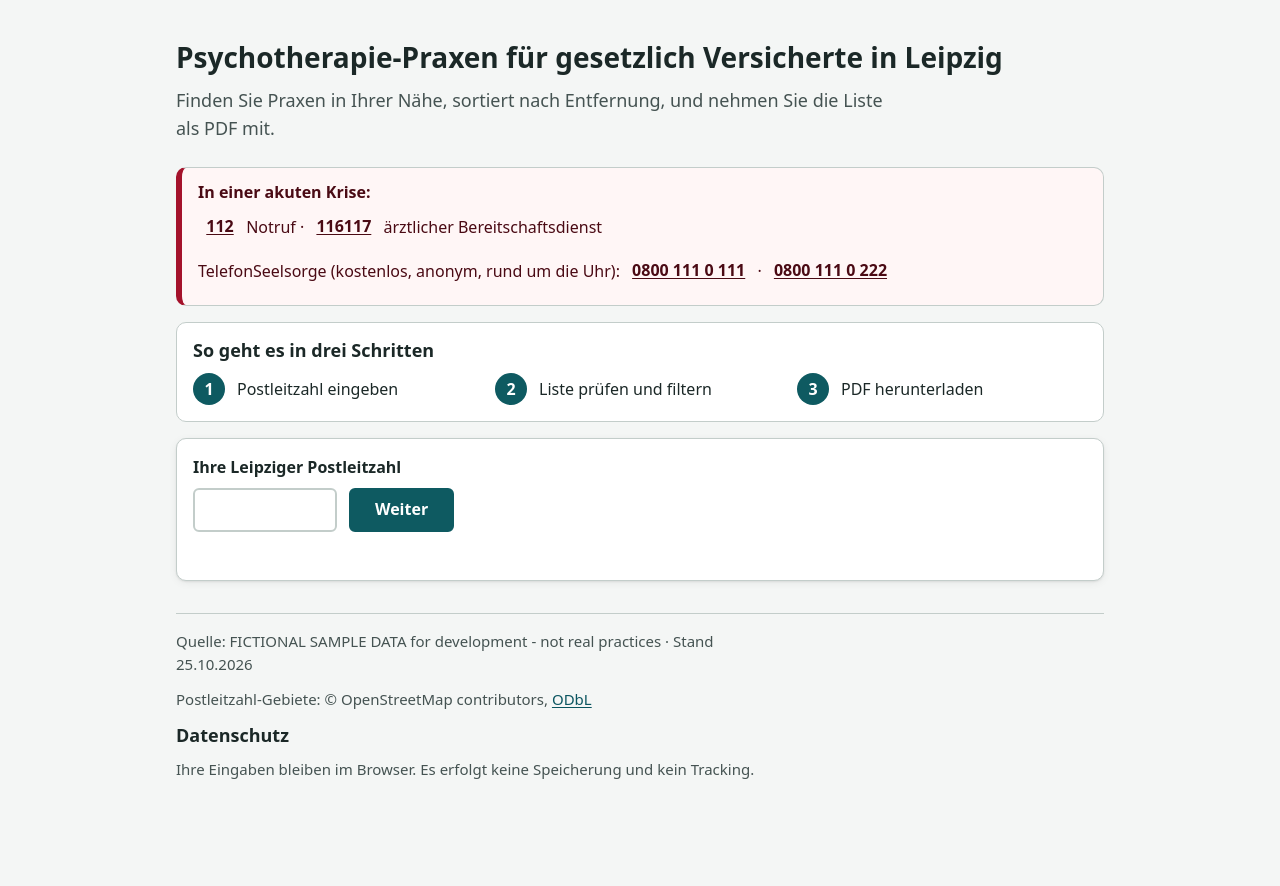
Test case: PLZ input › confirms a valid Leipzig PLZ
Type "04318" into the field labelled "Ihre Leipziger Postleitzahl".
click(265, 510); type("04318")  # box 193,488 -> 337,532
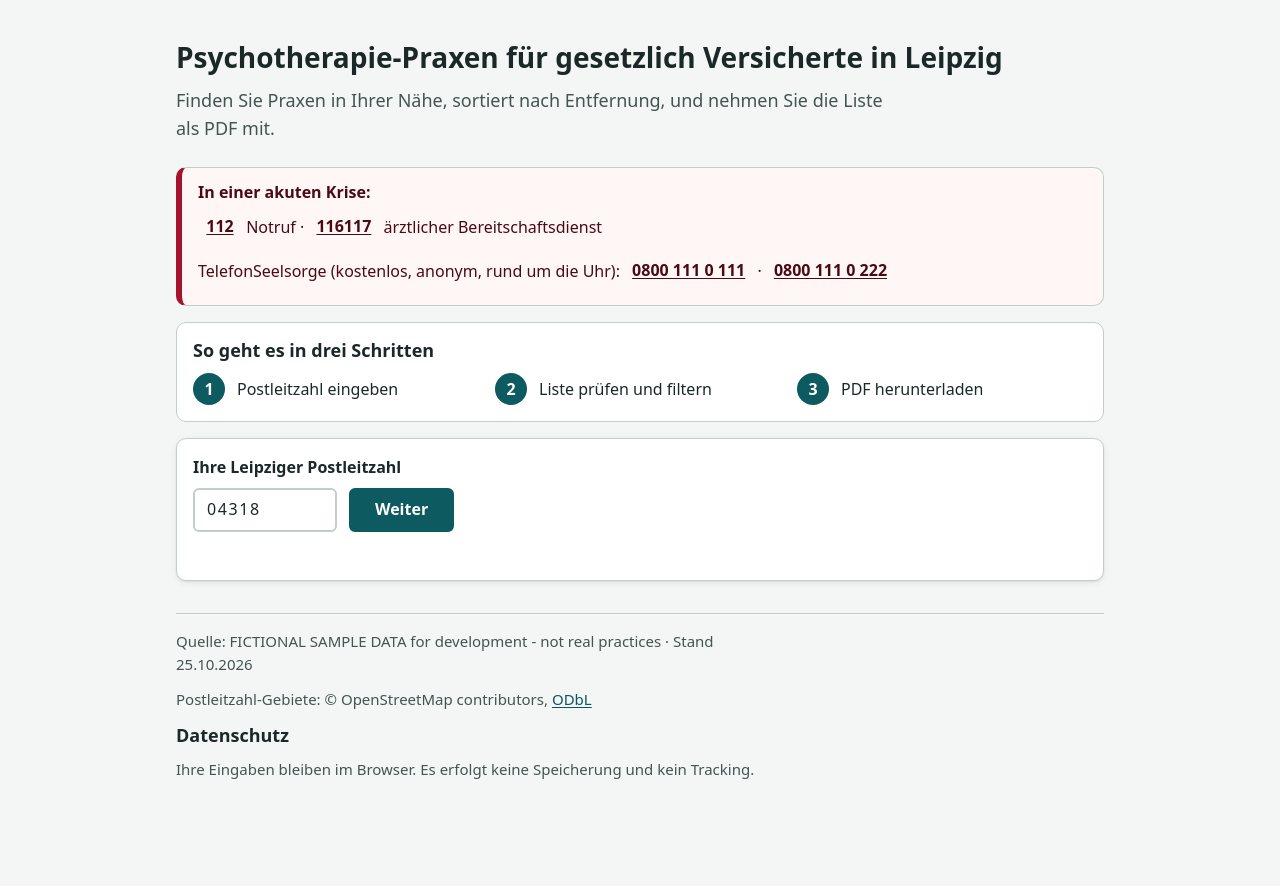
Click the button "Weiter".
click(402, 510)  # box 349,488 -> 454,532
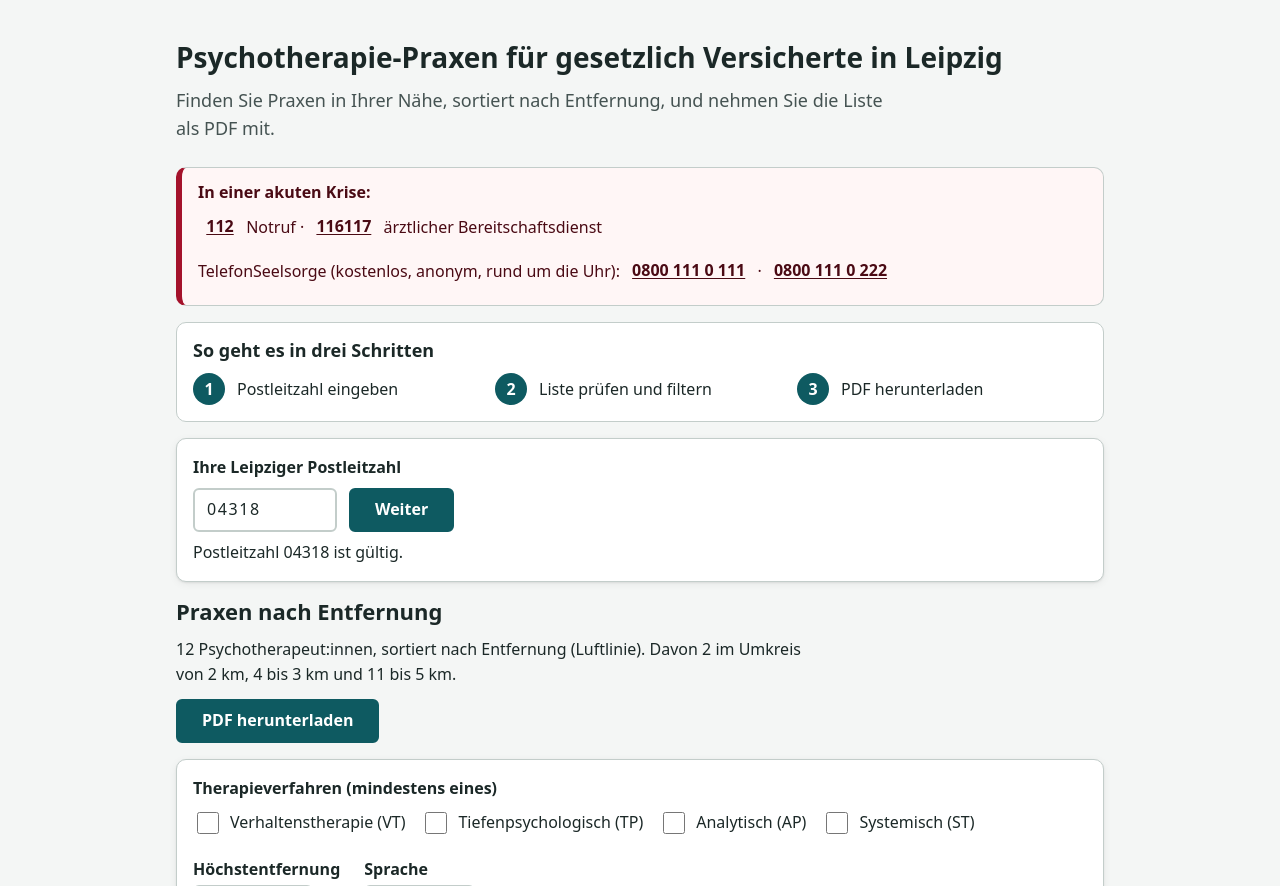
expect the text "Postleitzahl 04318 ist gültig." is shown: met, box 193,541 -> 403,563
